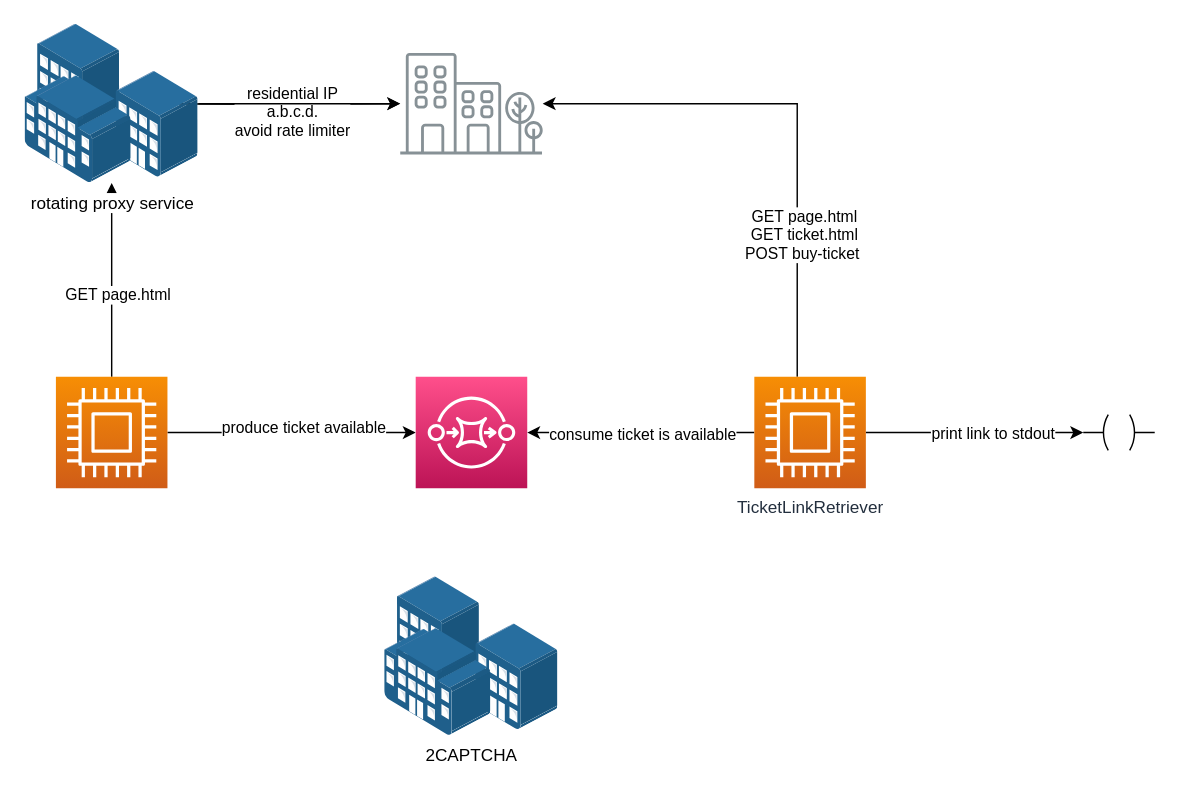
Image size: 1180x791. Some labels were removed from this diagram. The centre of each missing label's shape, as x and y in pixels:
"StatusRefresher" goes at point 110,431.
"ticketswap.com" goes at point 470,103.
